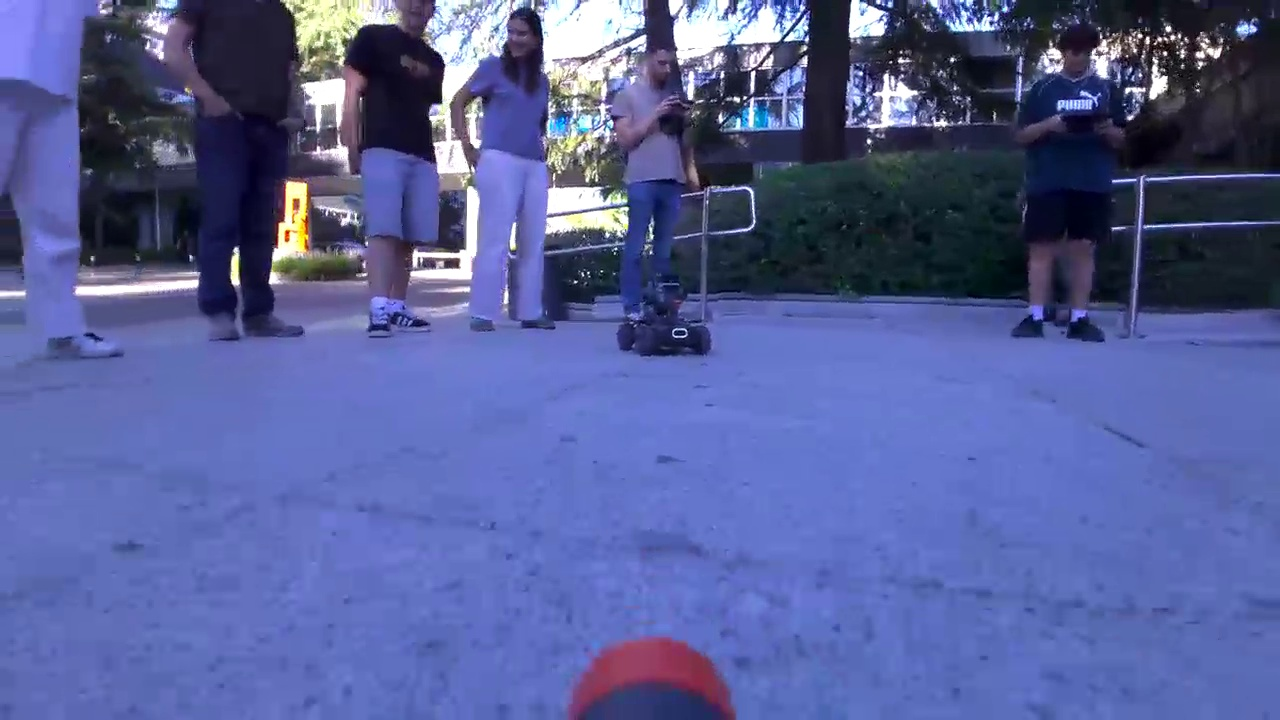robot: (616, 280, 711, 361)
